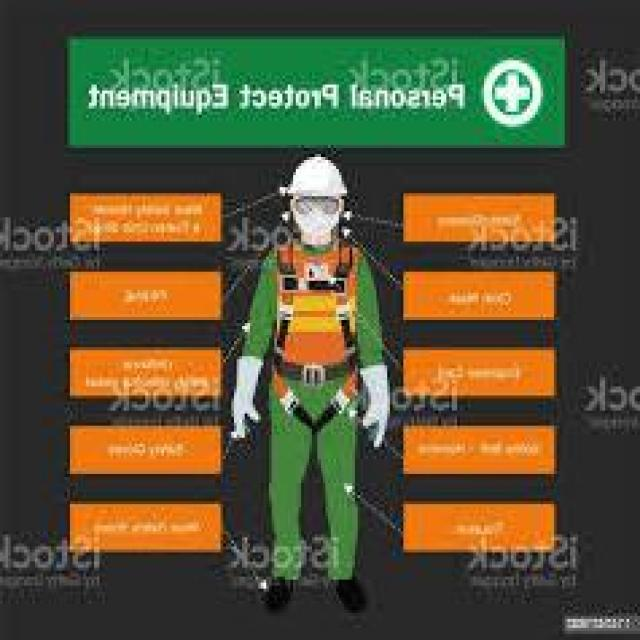Reflective-Jacket: (245, 232, 387, 420)
Safety-Helmet: (280, 151, 352, 205)
